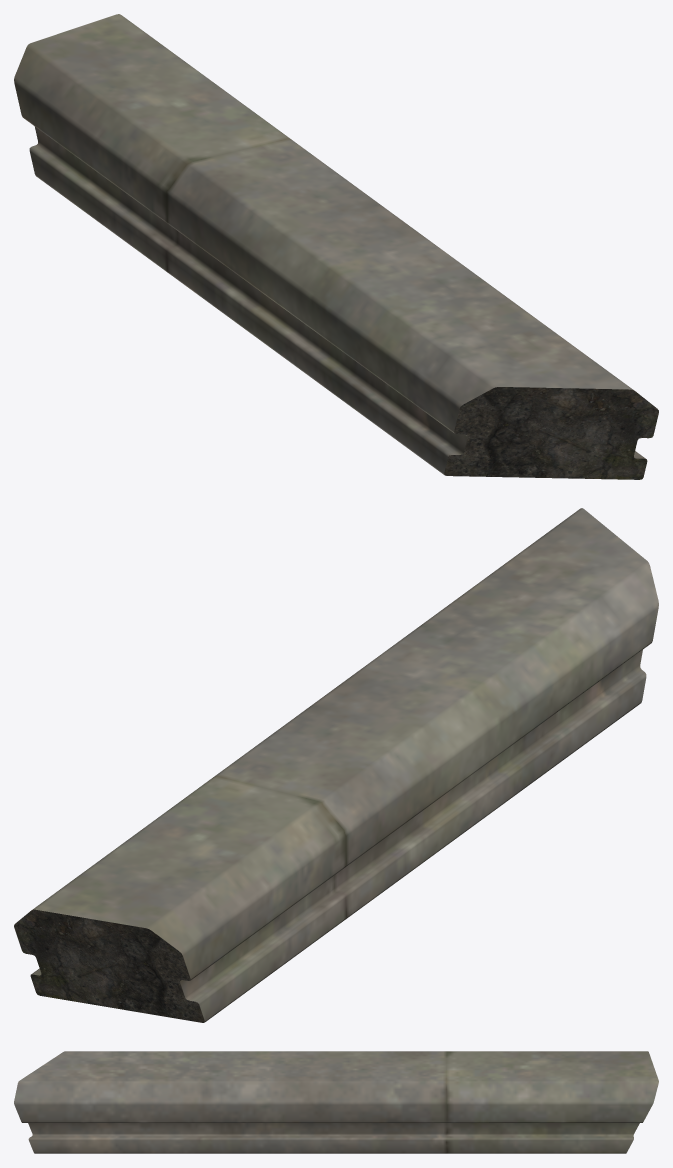
File: RailingDamage06.fbx
3 renders of one model, top to bottom at view 1: azimuth 30°, elevation 25°; view 2: azimuth 150°, elevation 25°; view 3: azimuth 270°, elevation 25°, orthographic. The views are drawn at different scales.
Parts seen in each view (by area): view 1: RailingDamage06; view 2: RailingDamage06; view 3: RailingDamage06.
Boxes of the visible parts, x1,y1,x2,y2 form: RailingDamage06: (14, 14, 658, 479); RailingDamage06: (14, 508, 658, 1022); RailingDamage06: (14, 1051, 658, 1153).
Bounding box in the file's own units: 14.07 × 9.75 × 86.69.
